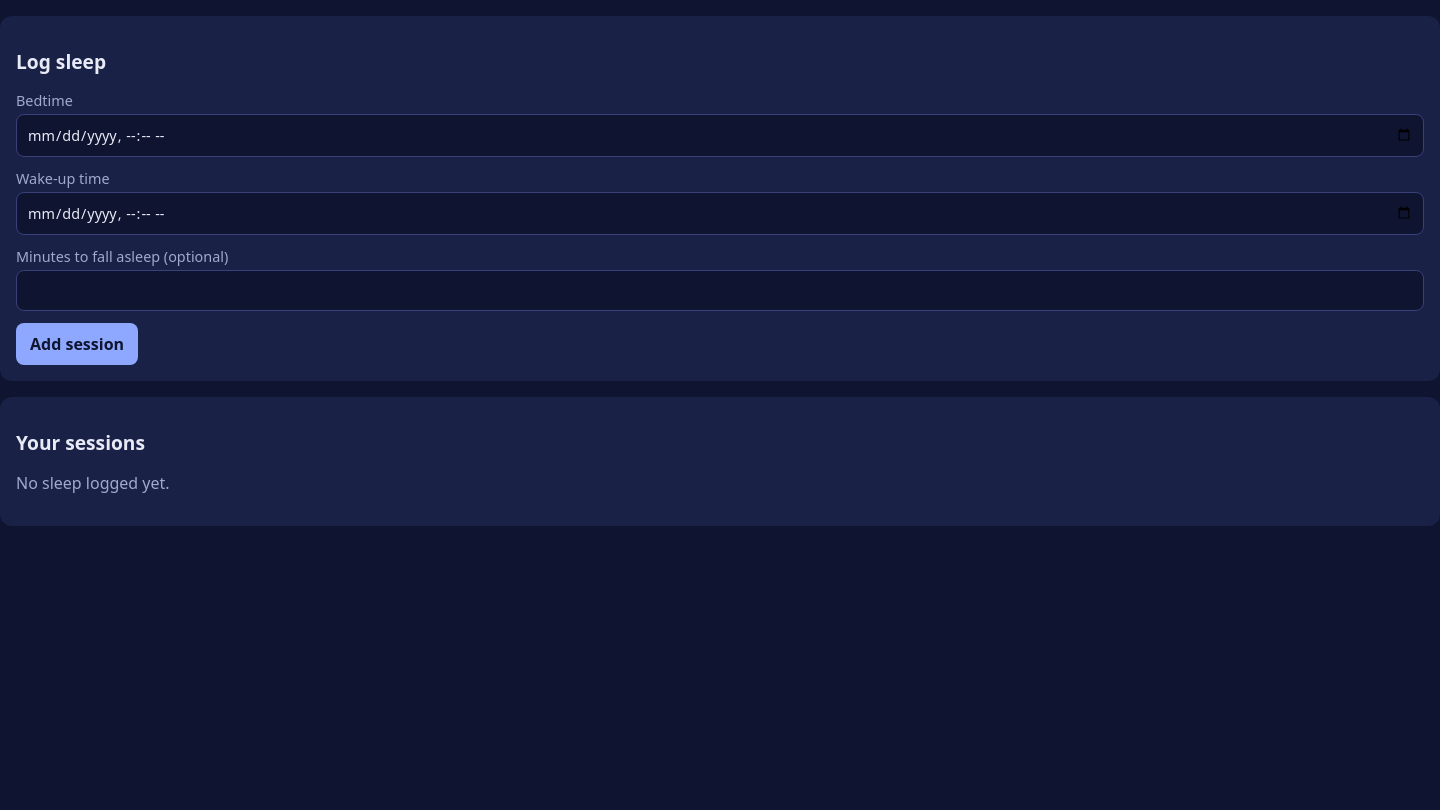
SleepSessions › shows the server validation error when creating fails
Expected: the text "No sleep logged yet." is shown, top-left (16, 472), bottom-right (170, 494)
Type "2026-10-01T23:00" into the field labelled "Bedtime".
click(720, 135); type("2026-10-01T23:00")  # box top-left (16, 114), bottom-right (1424, 157)
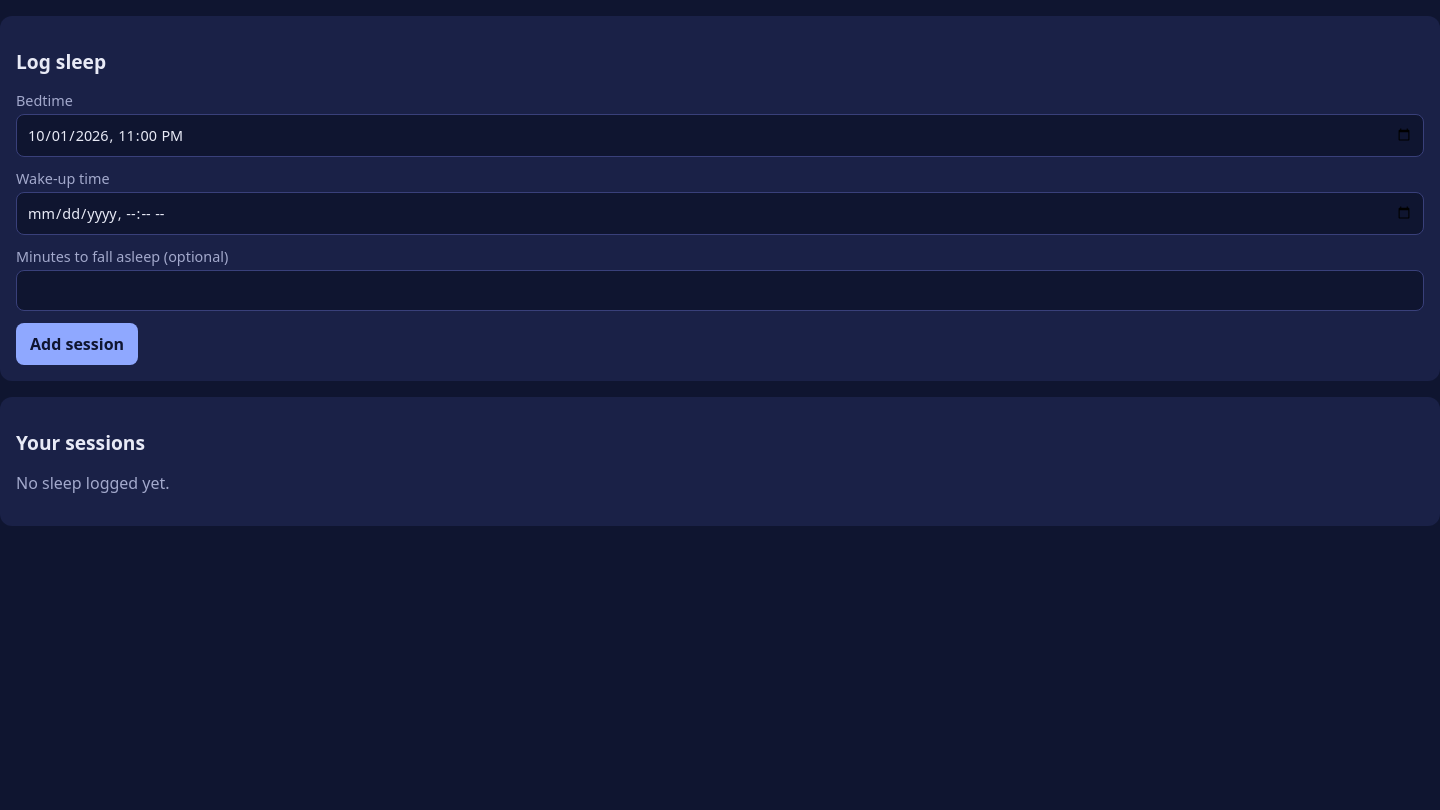
Type "2026-10-02T07:00" into the field labelled "Wake-up time".
click(720, 213); type("2026-10-02T07:00")  # box top-left (16, 192), bottom-right (1424, 235)
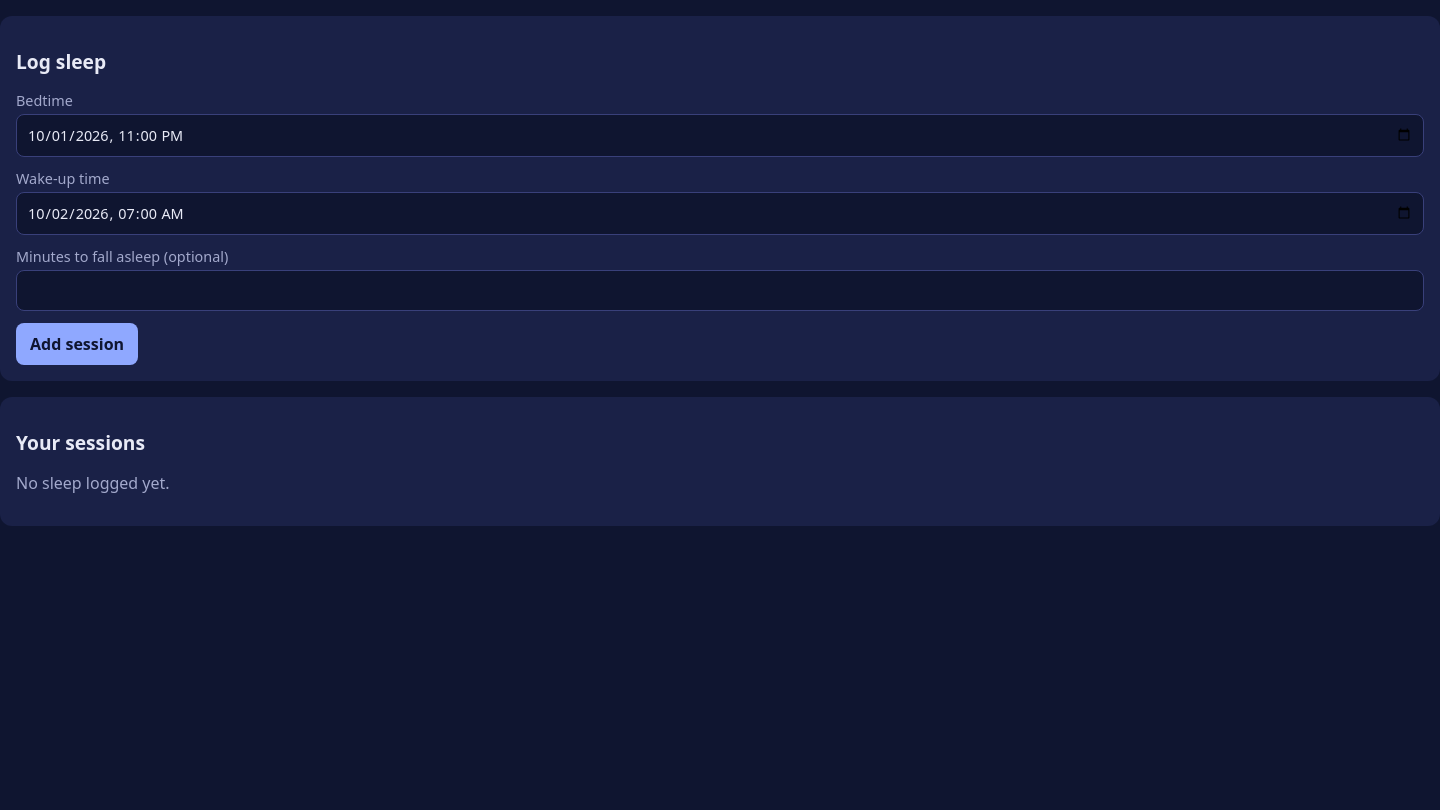
Click the button "Add session".
click(77, 344)  # box top-left (16, 323), bottom-right (138, 365)
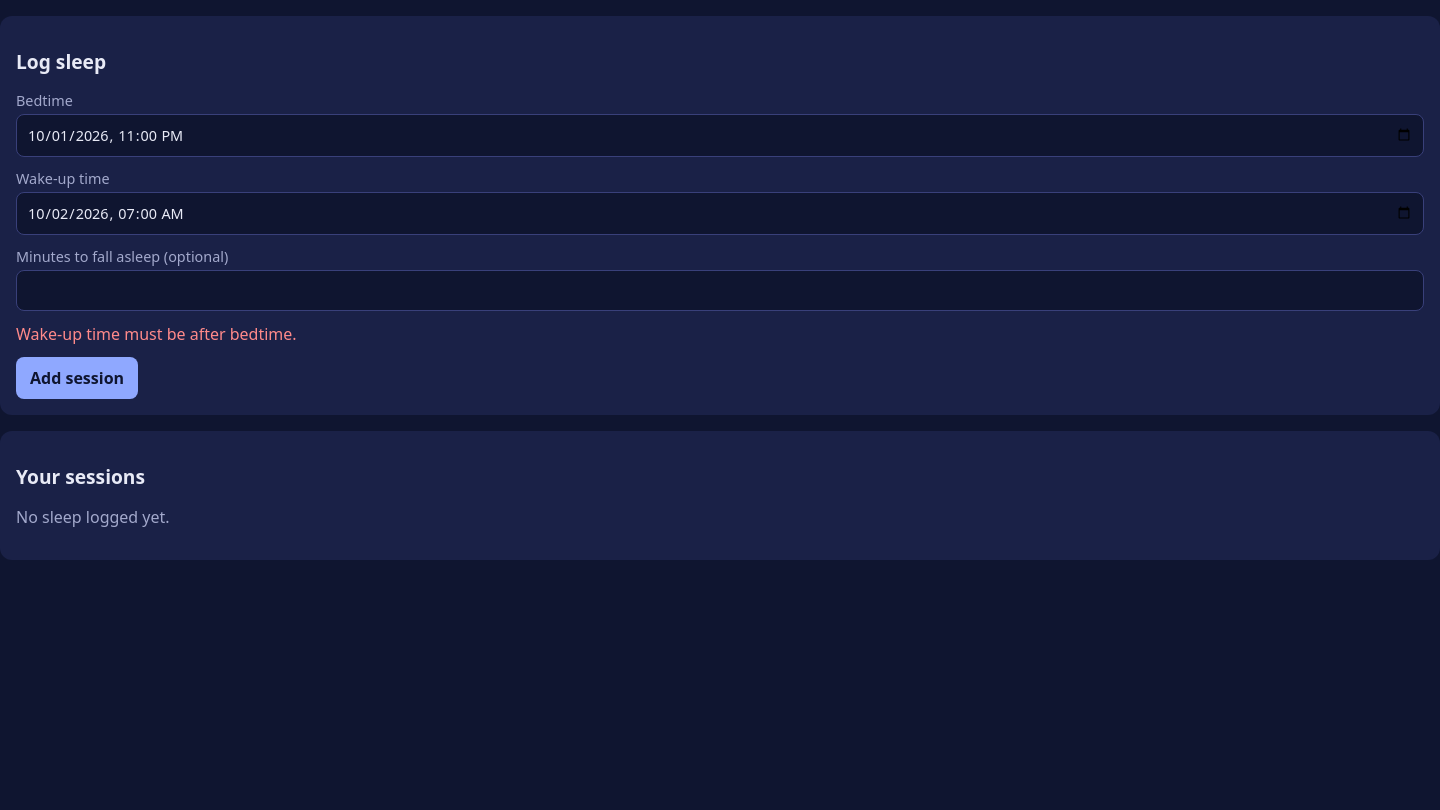
Now the message reads "Wake-up time must be after bedtime.", box top-left (16, 323), bottom-right (297, 345)
